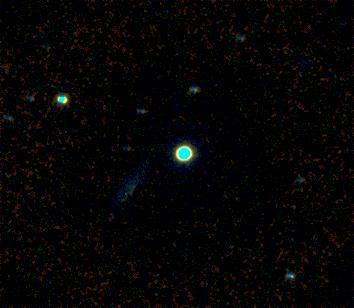star: (111, 177, 141, 207)
